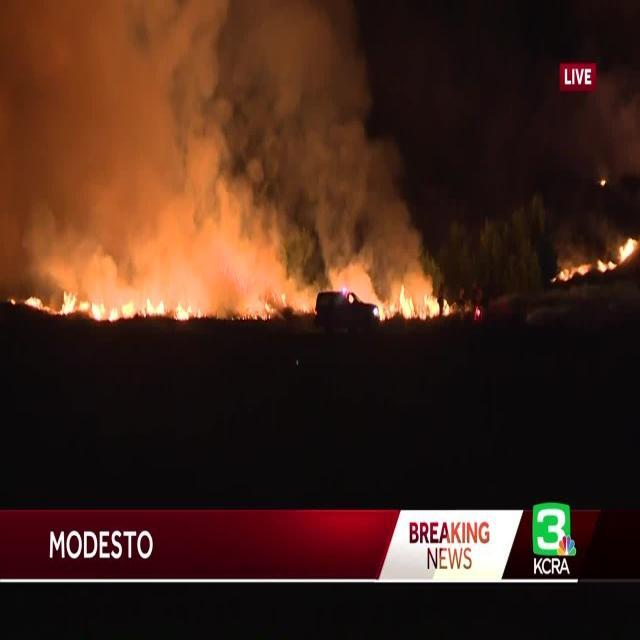Smoke: (0, 0, 450, 306)
